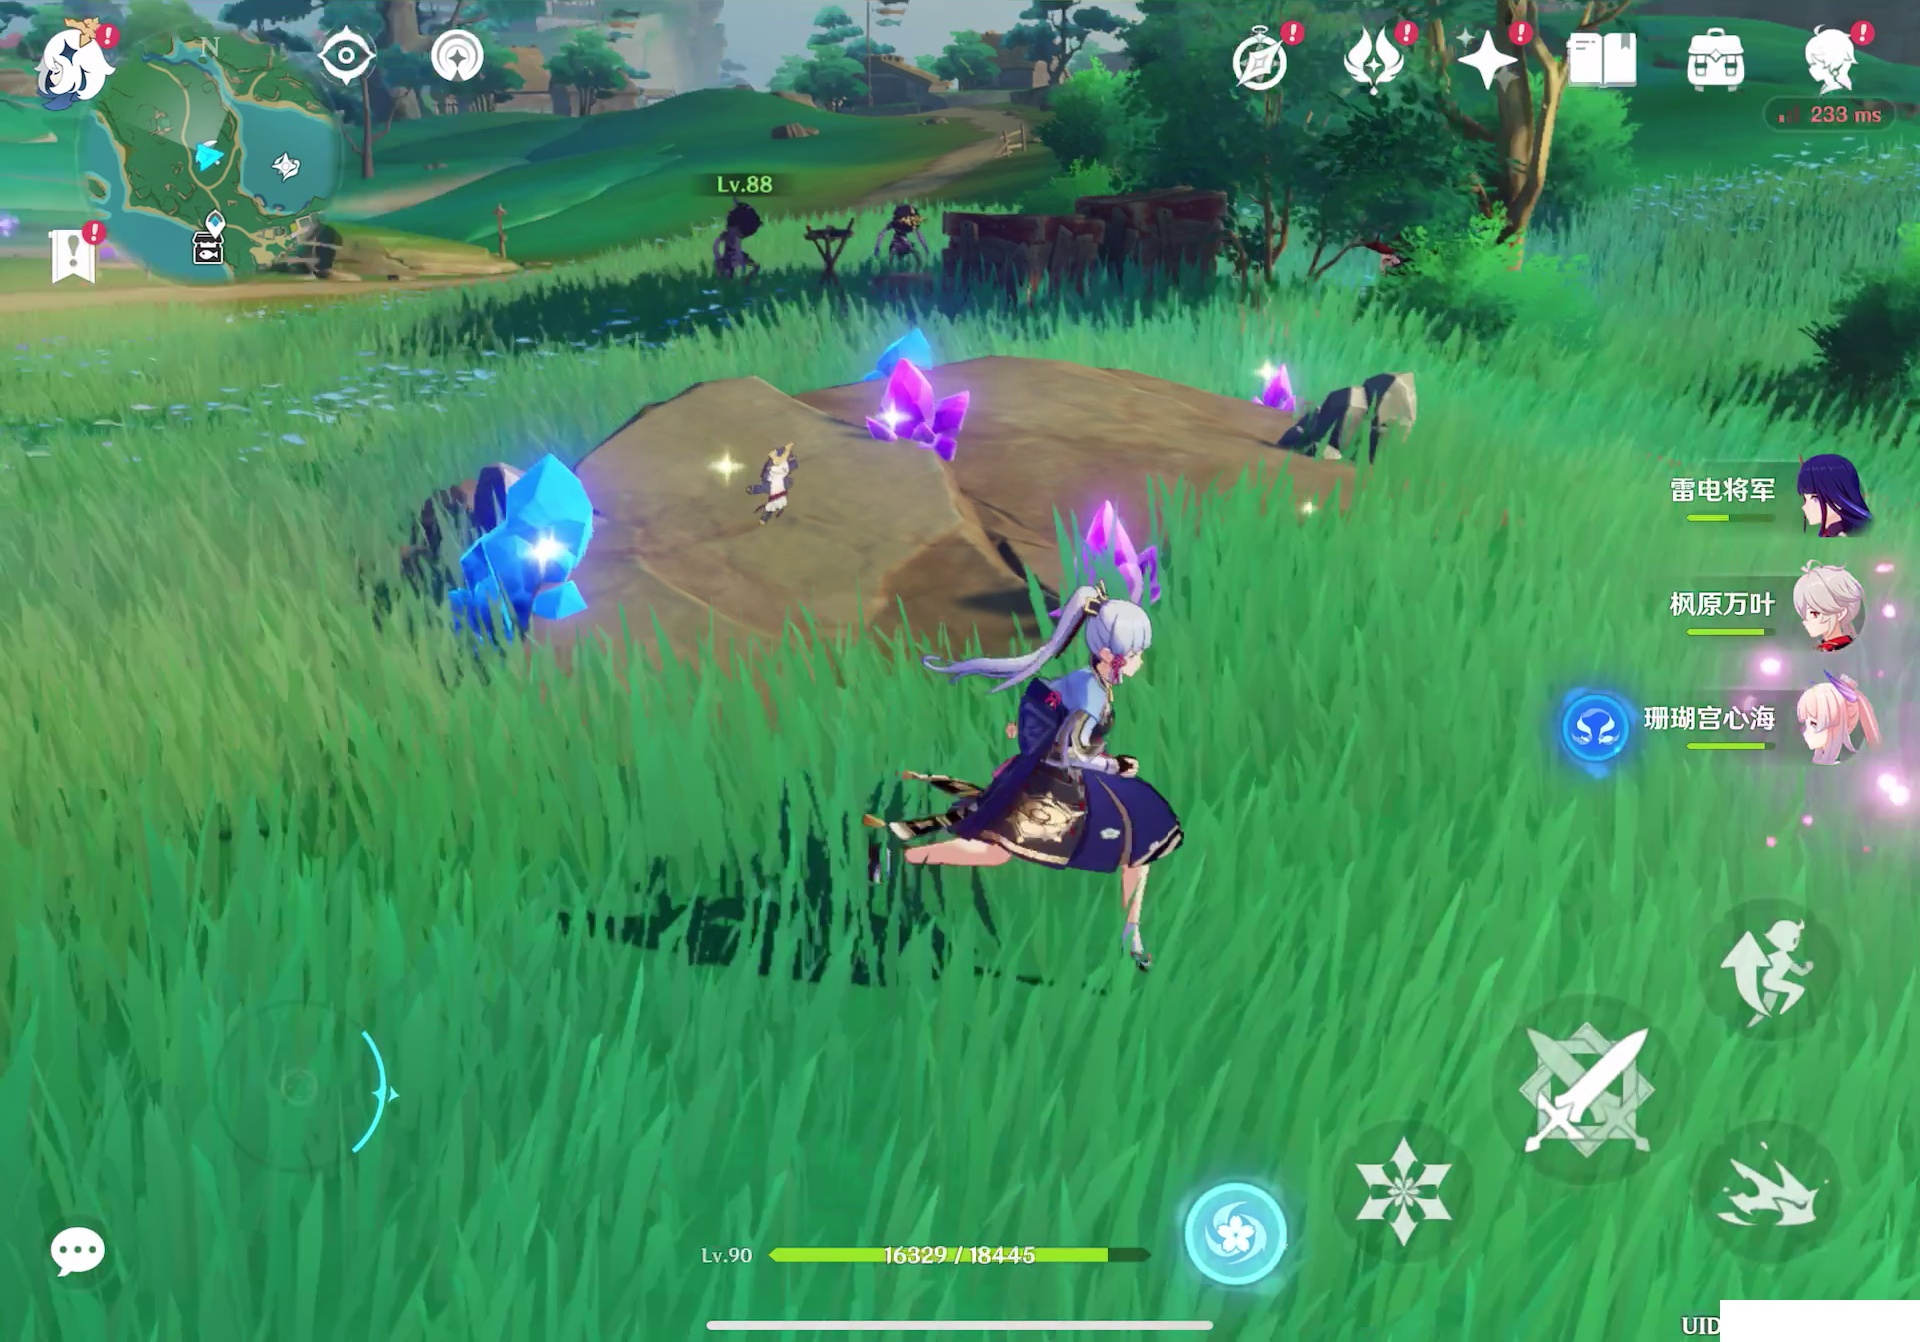丘丘人: (712, 203, 764, 290), (872, 204, 932, 265)
白铁矿石: (1312, 373, 1430, 478)
神里绫龟: (921, 598, 1199, 967)
紫矿石: (872, 369, 983, 473), (1052, 493, 1158, 565), (1259, 363, 1304, 411)
蓝矿石: (467, 465, 608, 637), (880, 331, 940, 362)
